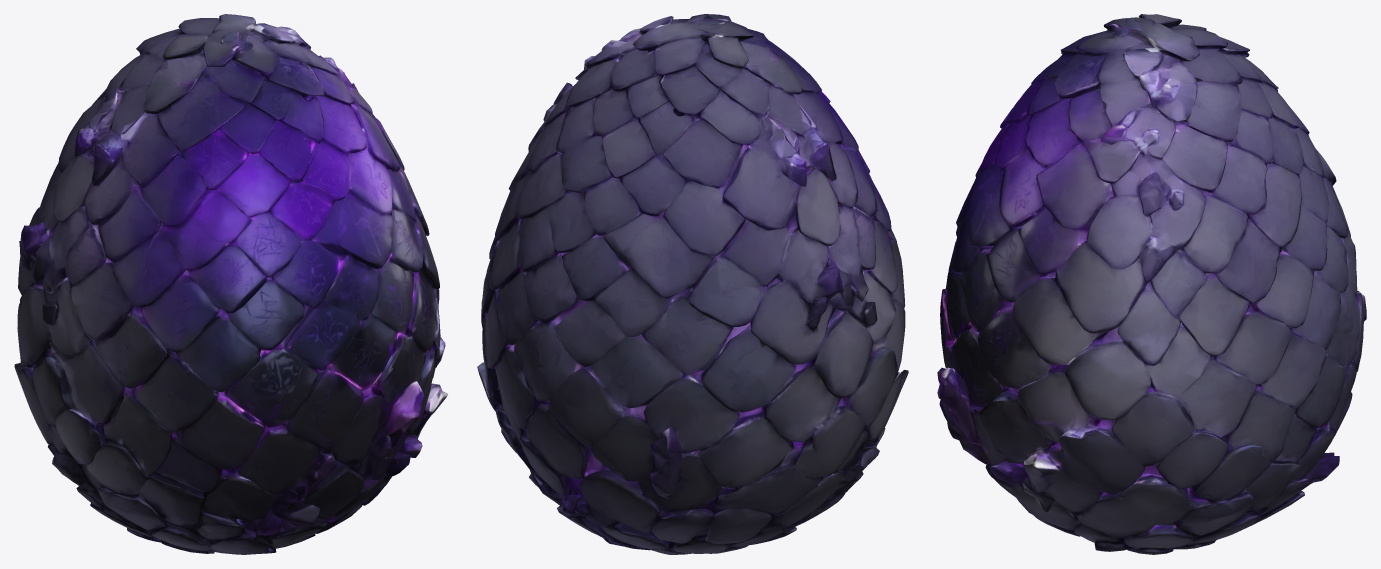
Rendered from dragon_egg_3d_model.fbx.
3 views of the same model, side by side, from view 1: azimuth 30°, elevation 25°; view 2: azimuth 150°, elevation 25°; view 3: azimuth 270°, elevation 25° (orthographic).
Visible parts, largest first — view 1: tripo_node_6aeb597f; view 2: tripo_node_6aeb597f; view 3: tripo_node_6aeb597f.
Boxes of the visible parts, x1,y1,x2,y2 form: tripo_node_6aeb597f: (14, 14, 447, 554); tripo_node_6aeb597f: (477, 14, 908, 554); tripo_node_6aeb597f: (937, 14, 1366, 554).
Bounding box in the file's own units: 0.7848 × 1 × 0.7818.
